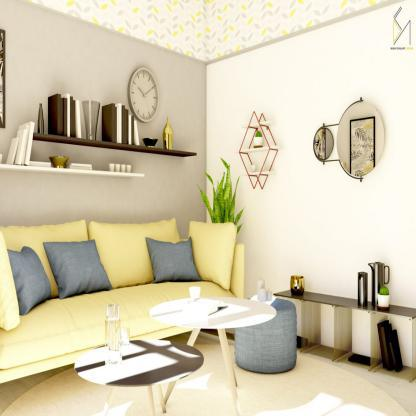bantal: (48, 240, 114, 291), (12, 245, 53, 307), (146, 237, 199, 283), (9, 123, 36, 166)
buku: (48, 94, 136, 146)
gelas: (188, 287, 202, 300)
jam dinding: (127, 64, 163, 125)
meja: (152, 290, 274, 407)
sova: (1, 224, 247, 382)
tanaman: (200, 164, 244, 222)
